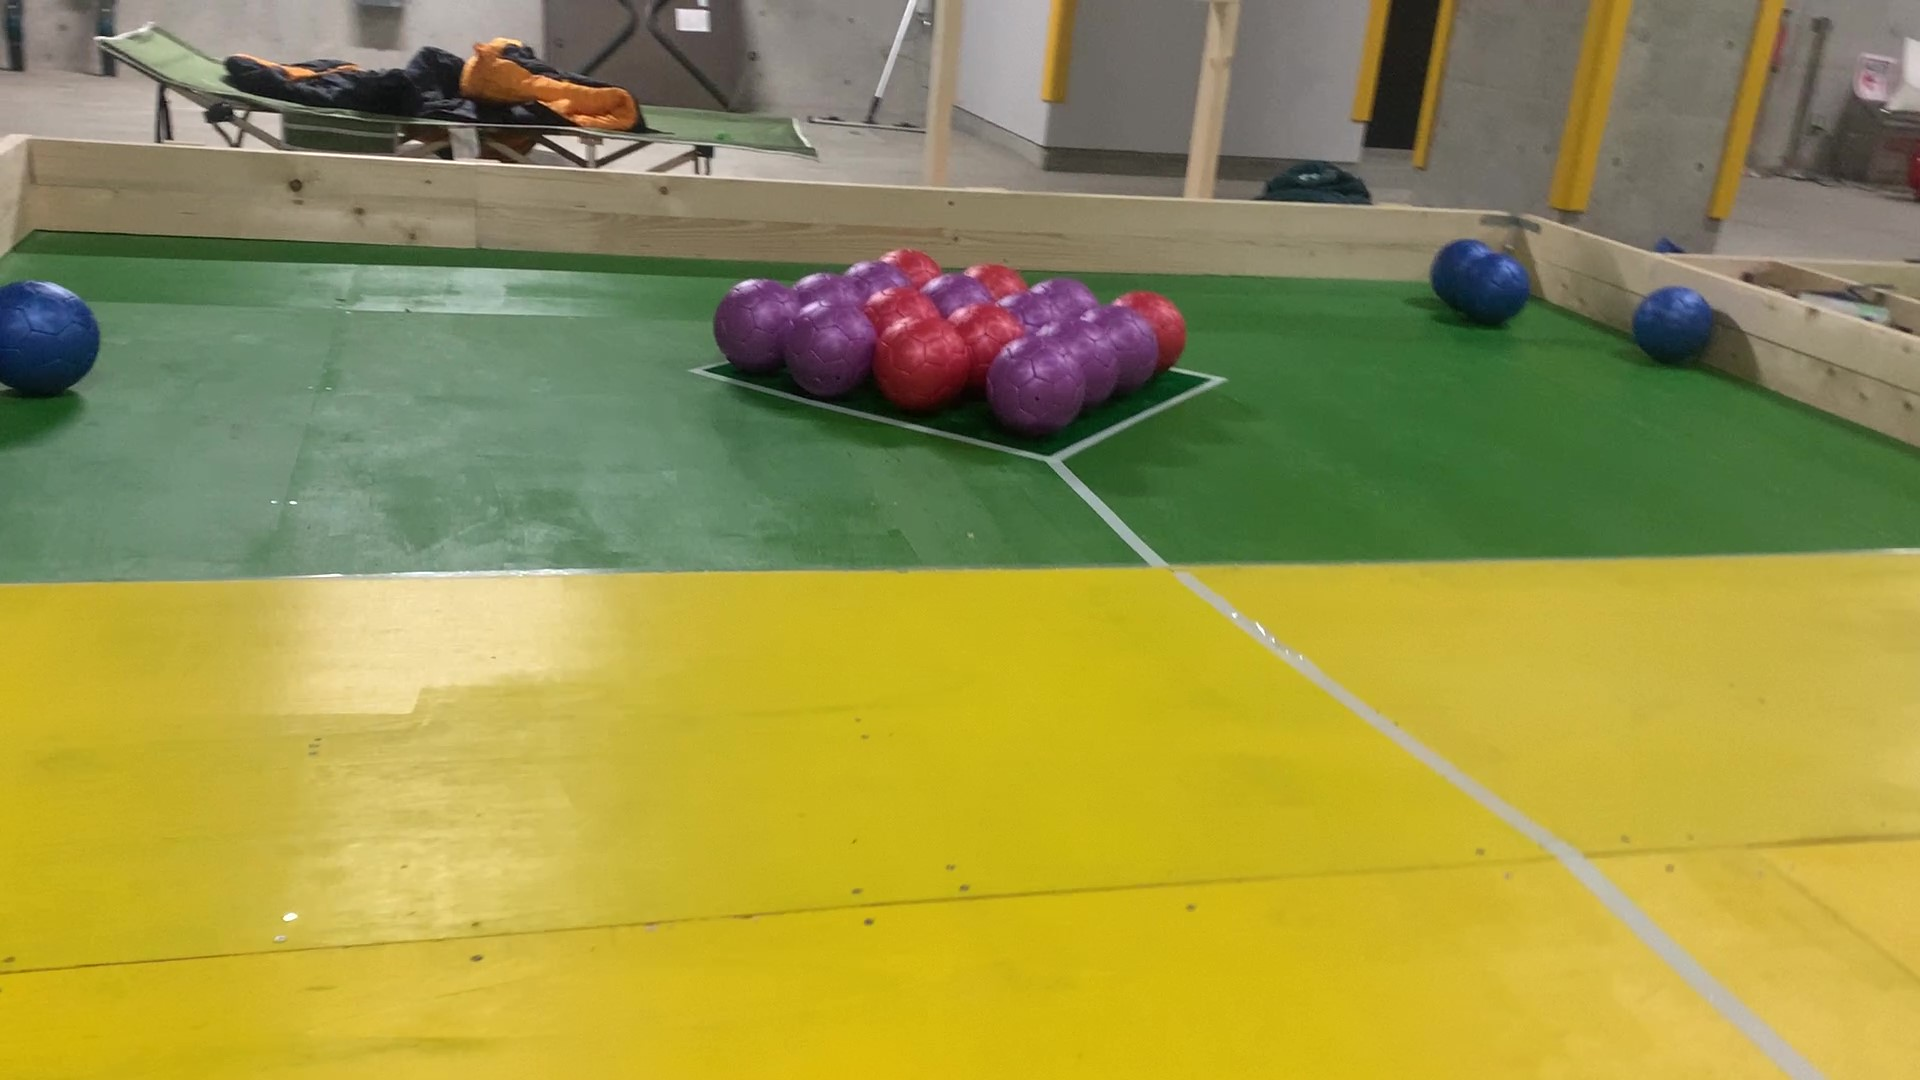blue: (7, 281, 91, 392), (1642, 289, 1712, 357), (1470, 260, 1522, 316), (1440, 245, 1458, 302)
purple: (998, 349, 1073, 425), (798, 314, 861, 385), (724, 287, 785, 357), (1117, 316, 1159, 385), (1076, 326, 1110, 396), (1052, 277, 1092, 313), (942, 278, 986, 306), (856, 260, 895, 290), (803, 277, 851, 302), (1021, 294, 1055, 326)
red: (887, 326, 957, 402), (963, 310, 1021, 340), (873, 290, 934, 316), (1160, 295, 1180, 371), (899, 248, 938, 282), (989, 266, 1021, 290)
